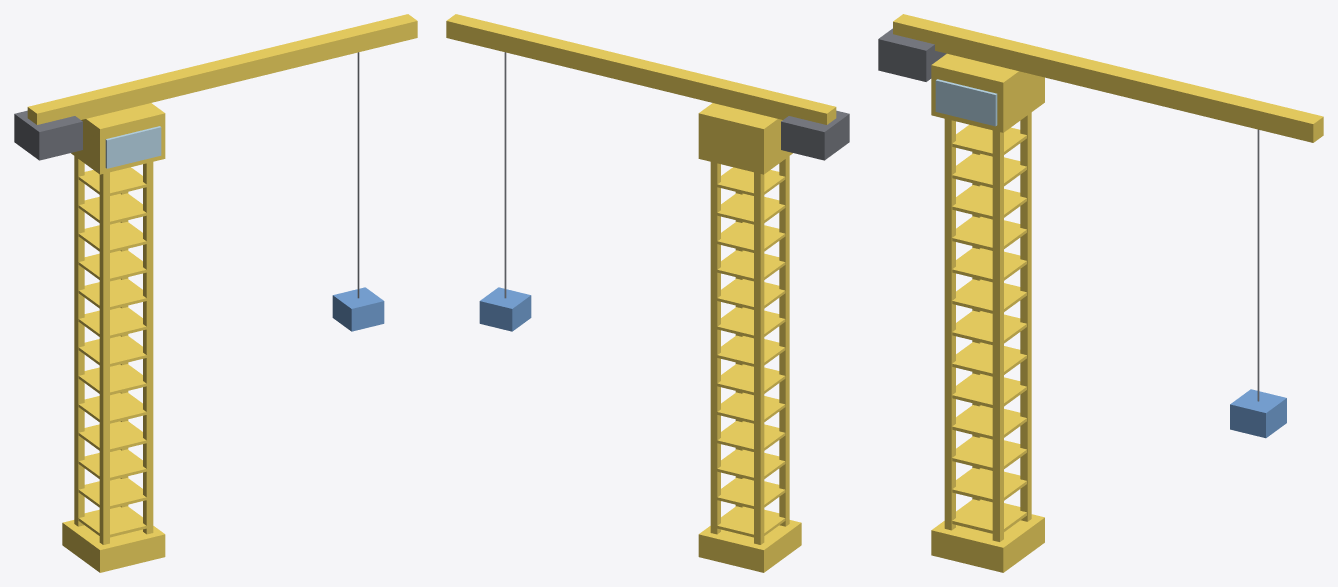
The model's file is harbour_crane.glb.
3 renders of one model, left to right at view 1: azimuth 30°, elevation 25°; view 2: azimuth 150°, elevation 25°; view 3: azimuth 330°, elevation 25°, orthographic. The views are drawn at different scales.
Visible parts, largest first — view 1: harbour_crane; view 2: harbour_crane; view 3: harbour_crane.
Part boxes in pixels (x1,y1,x2,y2): harbour_crane: (14,14,417,572); harbour_crane: (446,14,849,572); harbour_crane: (878,14,1323,572).
Size of the model in its own units: 7.1 by 8.1 by 1.25.
